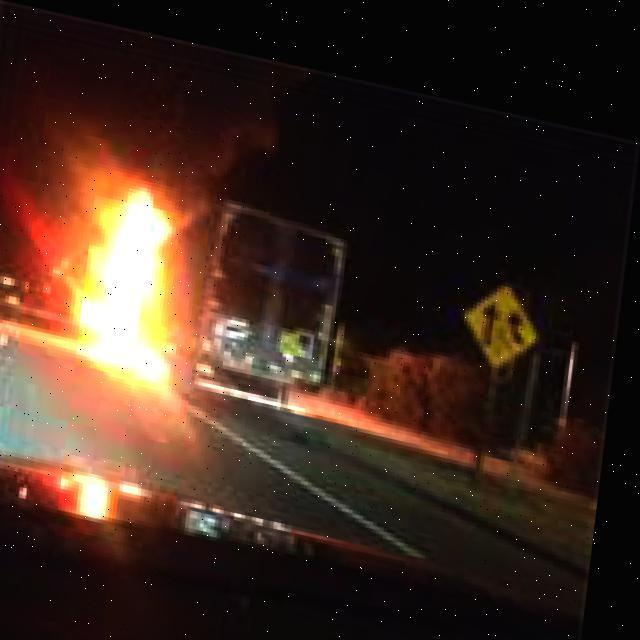Fire: (59, 161, 252, 383)
